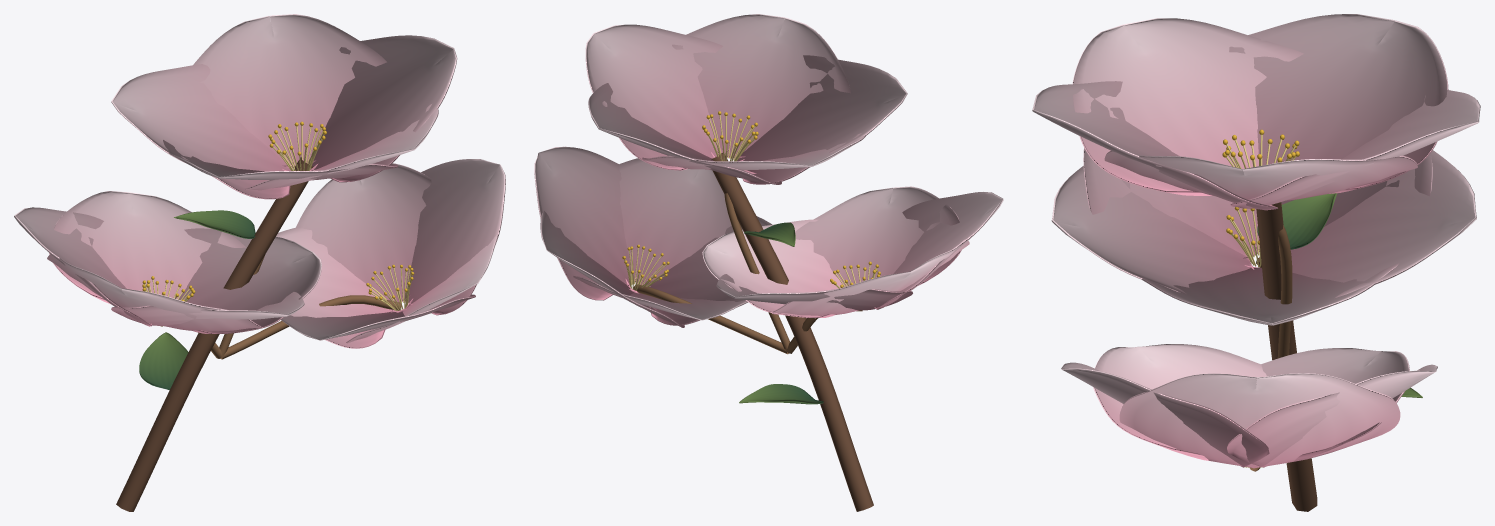
File: sakura.glb
3 renders of one model, left to right at view 1: azimuth 30°, elevation 25°; view 2: azimuth 150°, elevation 25°; view 3: azimuth 270°, elevation 25°, orthographic. The views are drawn at different scales.
Parts seen in each view (by area): view 1: 樱花 (×21); view 2: 樱花 (×22); view 3: 樱花 (×21).
Part boxes in pixels (box(x1,y1,x2,y2)): 樱花 (×21): box(14, 14, 505, 511); 樱花 (×22): box(534, 14, 1003, 511); 樱花 (×21): box(1032, 14, 1480, 511).
Size of the model in its own units: 0.9179 by 0.8037 by 0.6093.
